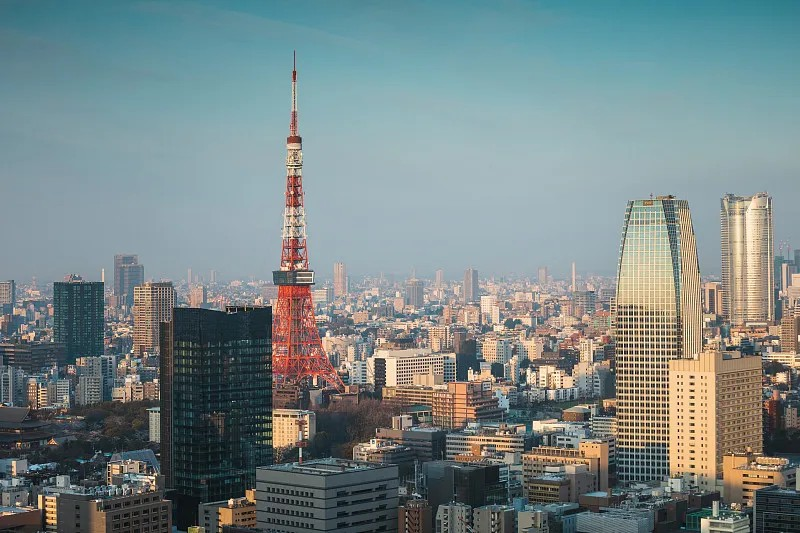Tokyo: (273, 48, 348, 394)
